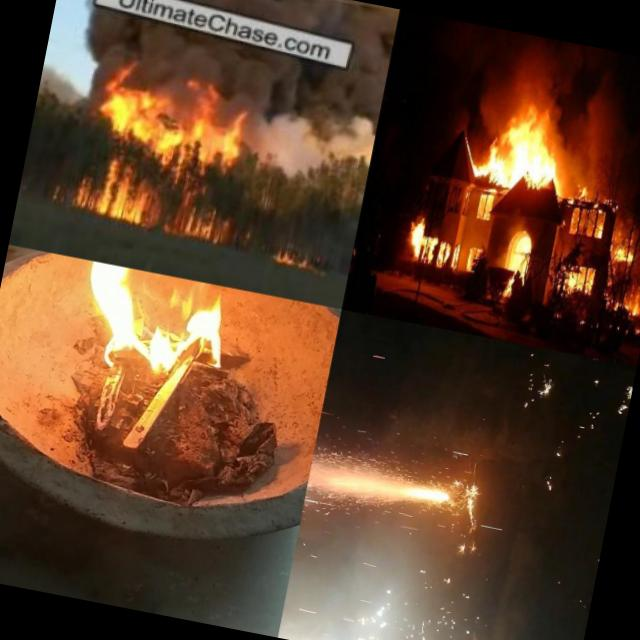fire: (77, 65, 250, 246), (61, 259, 248, 405), (474, 101, 567, 200), (404, 212, 466, 272), (562, 177, 612, 240), (559, 260, 600, 302), (601, 277, 640, 321), (266, 246, 319, 276), (609, 236, 636, 274), (474, 192, 499, 226), (464, 238, 486, 276)
smoke: (242, 62, 386, 188)
